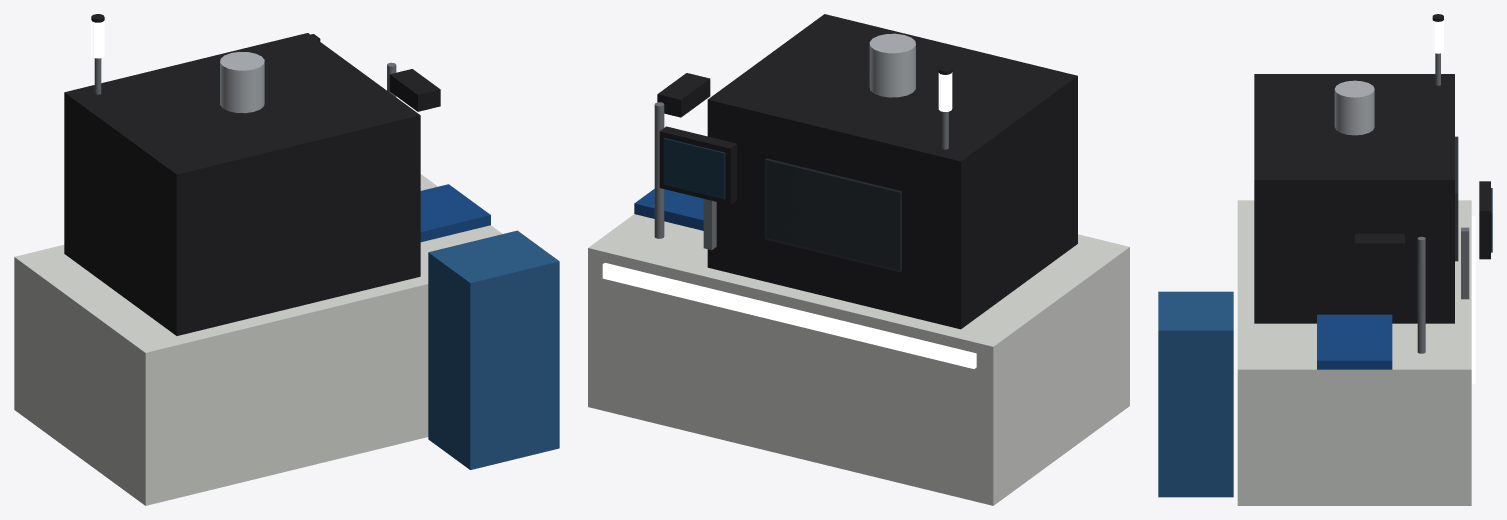
Rendered from mark.glb.
3 views of the same model, side by side, from view 1: azimuth 30°, elevation 25°; view 2: azimuth 150°, elevation 25°; view 3: azimuth 270°, elevation 25° (orthographic). The views are drawn at different scales.
Parts seen in each view (by area): view 1: body; view 2: body, status_band; view 3: body, status_band, beacon.
Boxes of the visible parts, x1,y1,x2,y2 form: body: [14, 14, 559, 505]; body: [588, 14, 1129, 505]; status_band: [602, 263, 976, 368]; body: [1158, 14, 1492, 505]; status_band: [1471, 216, 1475, 383]; beacon: [1432, 20, 1443, 53].
Bounding box in the file's own units: 2.4 × 2.3 × 2.
